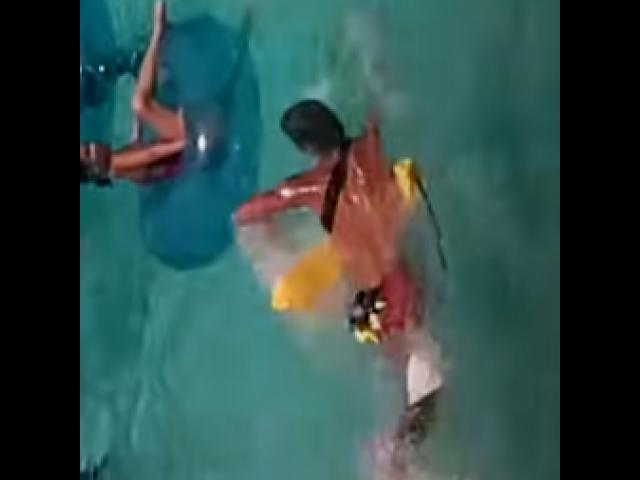swimming: (224, 91, 430, 364), (80, 0, 179, 185)
